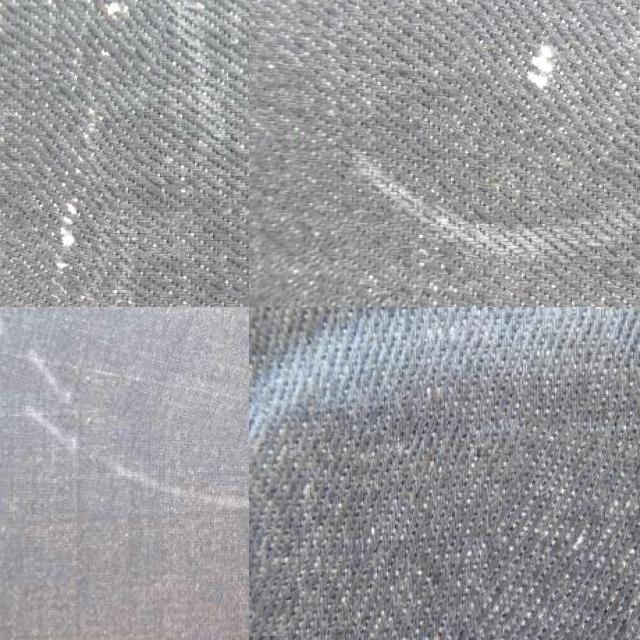stains: (0, 307, 249, 487), (6, 0, 150, 307), (483, 434, 640, 640), (449, 0, 640, 168)
